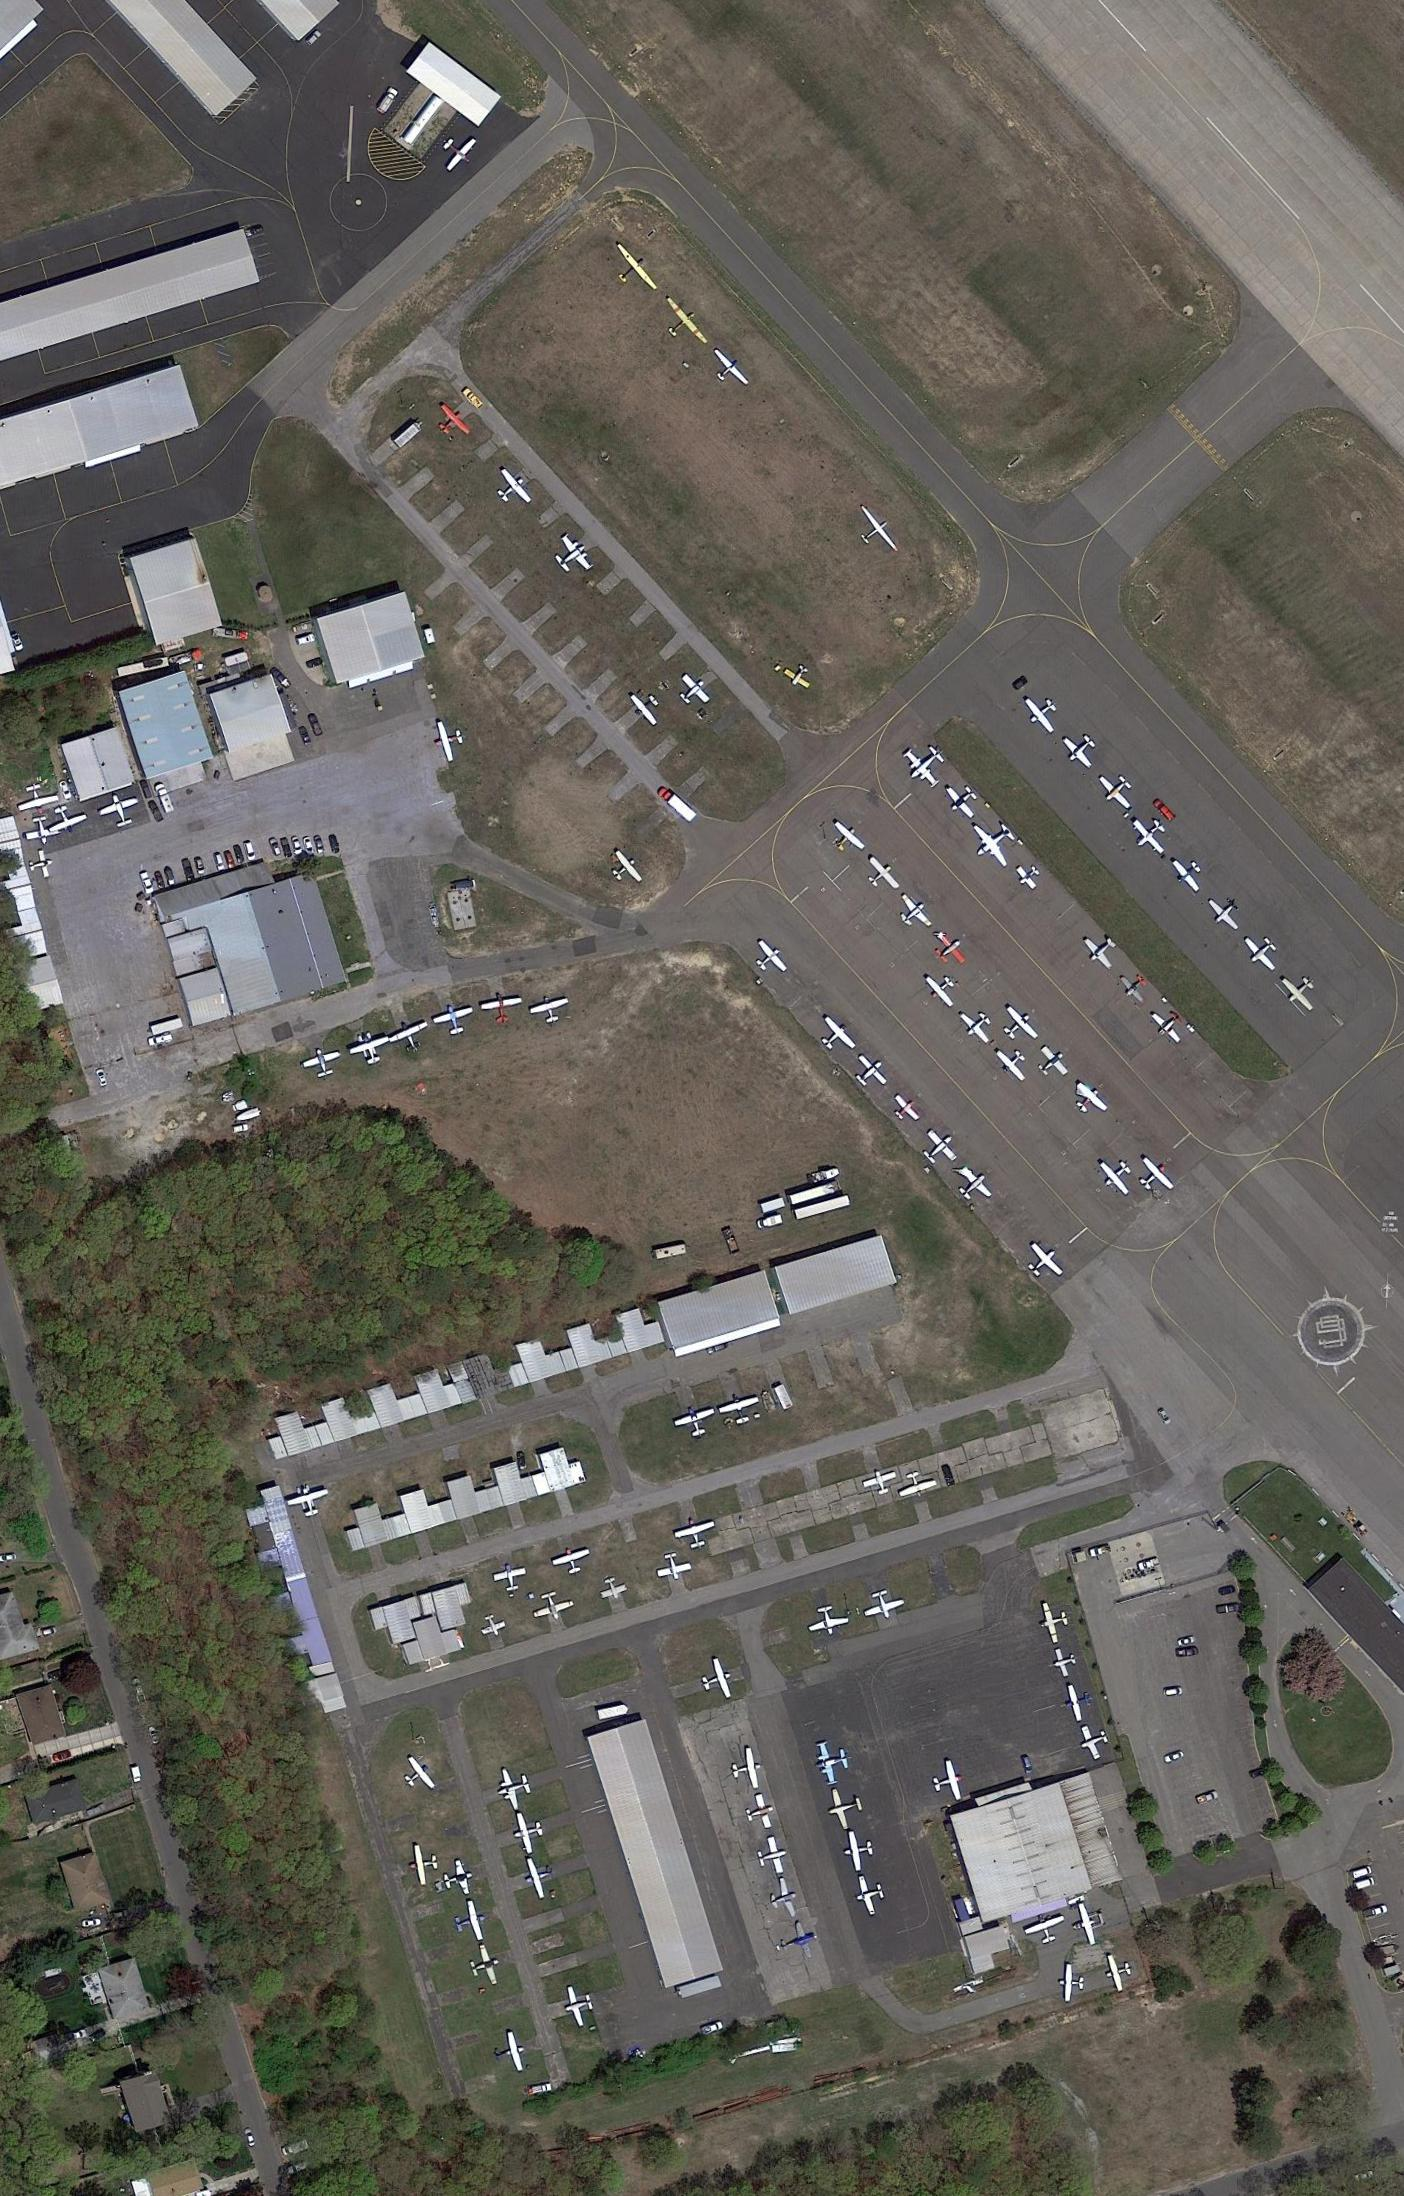plane: (963, 808, 1025, 878), (652, 291, 713, 361), (602, 238, 663, 305), (847, 500, 905, 565), (898, 734, 956, 794), (1124, 808, 1176, 863), (432, 125, 484, 180), (546, 530, 598, 584), (1018, 1236, 1070, 1288), (704, 343, 754, 397), (1092, 764, 1142, 815), (1201, 887, 1252, 937), (1238, 926, 1287, 978), (1277, 965, 1326, 1017), (914, 1122, 964, 1172), (488, 464, 537, 514), (1078, 924, 1126, 975), (1019, 687, 1066, 739), (94, 786, 144, 834), (995, 1002, 1043, 1052), (1058, 725, 1106, 775), (1094, 1150, 1141, 1201), (1132, 1152, 1179, 1203), (813, 1012, 861, 1061), (925, 924, 972, 974), (492, 1762, 536, 1815), (283, 1476, 336, 1520), (890, 889, 937, 938), (824, 1781, 868, 1833), (950, 1163, 998, 1210), (940, 776, 986, 825), (823, 816, 870, 863), (776, 1918, 822, 1966), (346, 1024, 394, 1070), (397, 1752, 441, 1802), (670, 1400, 721, 1443), (1068, 1898, 1110, 1950), (848, 1049, 894, 1096), (955, 1001, 1000, 1049), (1147, 1002, 1192, 1050), (1067, 1076, 1112, 1124), (697, 1655, 737, 1708), (920, 966, 966, 1012), (859, 852, 904, 899), (672, 1512, 720, 1556), (1021, 1907, 1069, 1951), (811, 1737, 852, 1788), (747, 936, 792, 982), (603, 846, 648, 892), (431, 400, 476, 446), (1030, 1041, 1074, 1088), (387, 1015, 435, 1058), (992, 1040, 1035, 1087), (452, 1897, 492, 1947), (1167, 850, 1210, 896), (717, 1389, 765, 1430), (859, 1584, 907, 1625), (431, 999, 478, 1040), (804, 1601, 851, 1642), (14, 779, 62, 819), (520, 1853, 559, 1902), (509, 1808, 548, 1857), (491, 2029, 530, 2078), (466, 1941, 504, 1991), (673, 669, 715, 714), (627, 685, 668, 731), (45, 800, 91, 841), (440, 1856, 479, 1904), (560, 1981, 599, 2029), (929, 1759, 968, 1807), (531, 1587, 577, 1627), (1036, 1598, 1074, 1646), (765, 1875, 802, 1924), (300, 1042, 345, 1082), (431, 716, 468, 764), (853, 1871, 889, 1920), (754, 1833, 792, 1879), (526, 991, 572, 1029), (894, 1466, 939, 1504), (729, 1747, 765, 1794), (885, 1091, 926, 1132), (550, 1542, 594, 1580), (1075, 1720, 1113, 1764), (841, 1827, 877, 1873), (479, 991, 525, 1027), (1100, 1949, 1136, 1994), (1116, 966, 1154, 1008), (743, 1792, 778, 1834), (408, 1842, 441, 1886), (655, 1549, 693, 1585), (1063, 1681, 1095, 1723), (860, 1465, 899, 1499), (493, 1560, 529, 1595), (1011, 858, 1046, 894), (781, 659, 816, 694), (24, 814, 60, 848), (1058, 1963, 1086, 2004), (26, 847, 57, 883), (597, 1573, 630, 1605), (1050, 1645, 1081, 1679), (477, 1612, 509, 1642)
